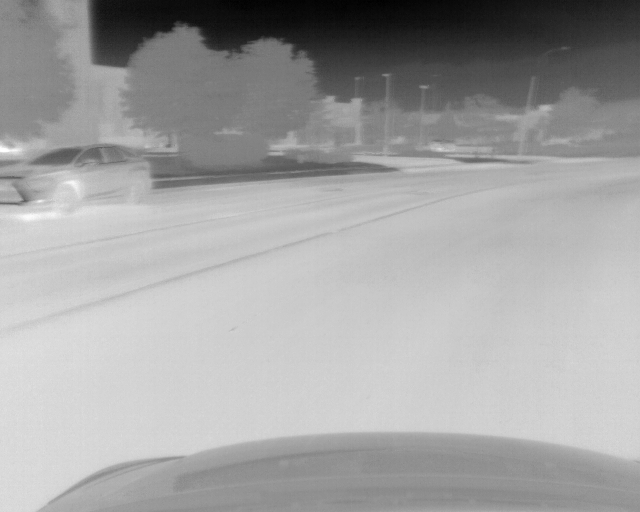car: (1, 143, 153, 214)
